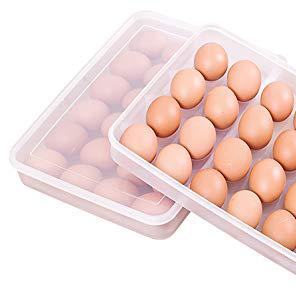egg: (114, 38, 295, 255), (20, 22, 194, 224)
